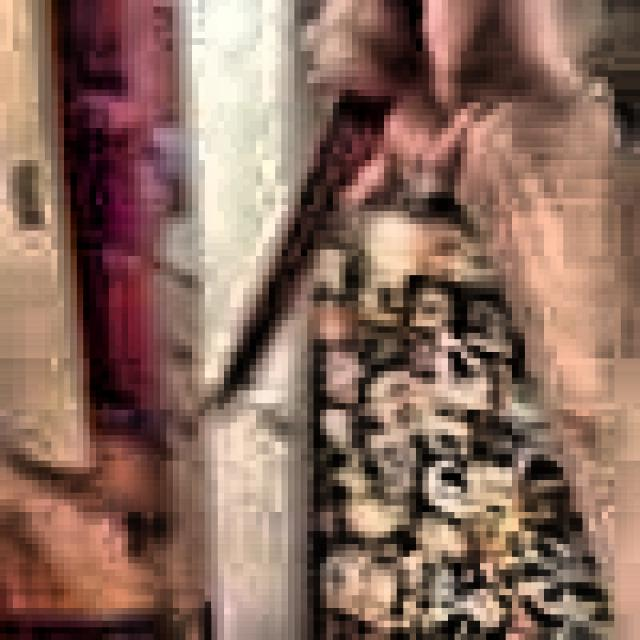knife: (210, 93, 400, 426)
